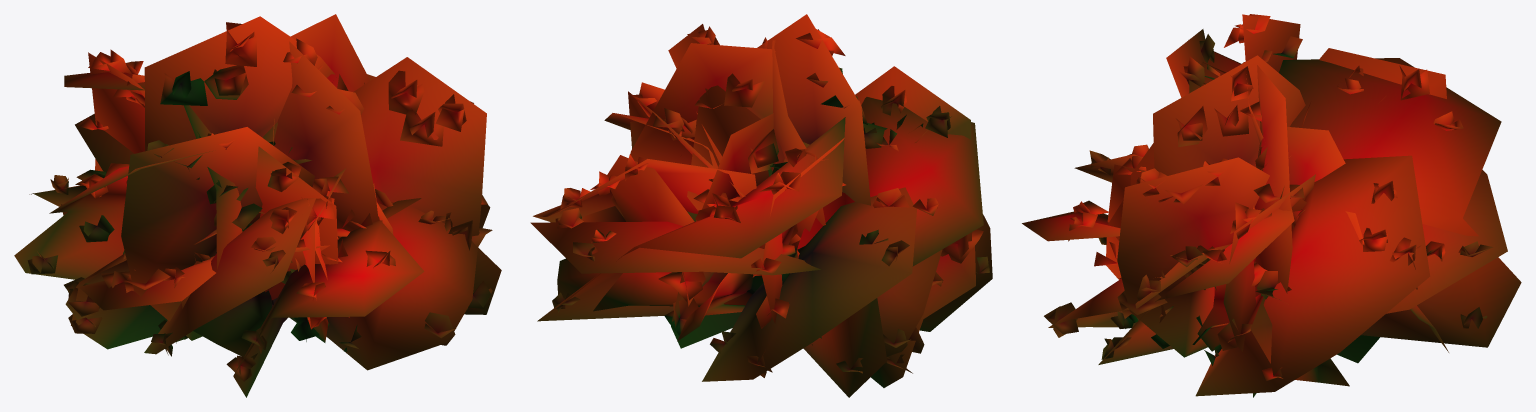
Rendered from RoseBushSmallRHEP_C.fbx.
3 views of the same model, side by side, from view 1: azimuth 30°, elevation 25°; view 2: azimuth 150°, elevation 25°; view 3: azimuth 270°, elevation 25° (orthographic). The views are drawn at different scales.
Visible parts, largest first — view 1: RBSRHEPC_LOD0; view 2: RBSRHEPC_LOD0; view 3: RBSRHEPC_LOD0.
Part boxes in pixels (left/top/right/bottom): RBSRHEPC_LOD0: left=14, top=14, right=501, bottom=397; RBSRHEPC_LOD0: left=530, top=14, right=992, bottom=397; RBSRHEPC_LOD0: left=1022, top=14, right=1521, bottom=397.
Size of what is drawn, in the model's own units: 2.17 by 1.55 by 2.15.
